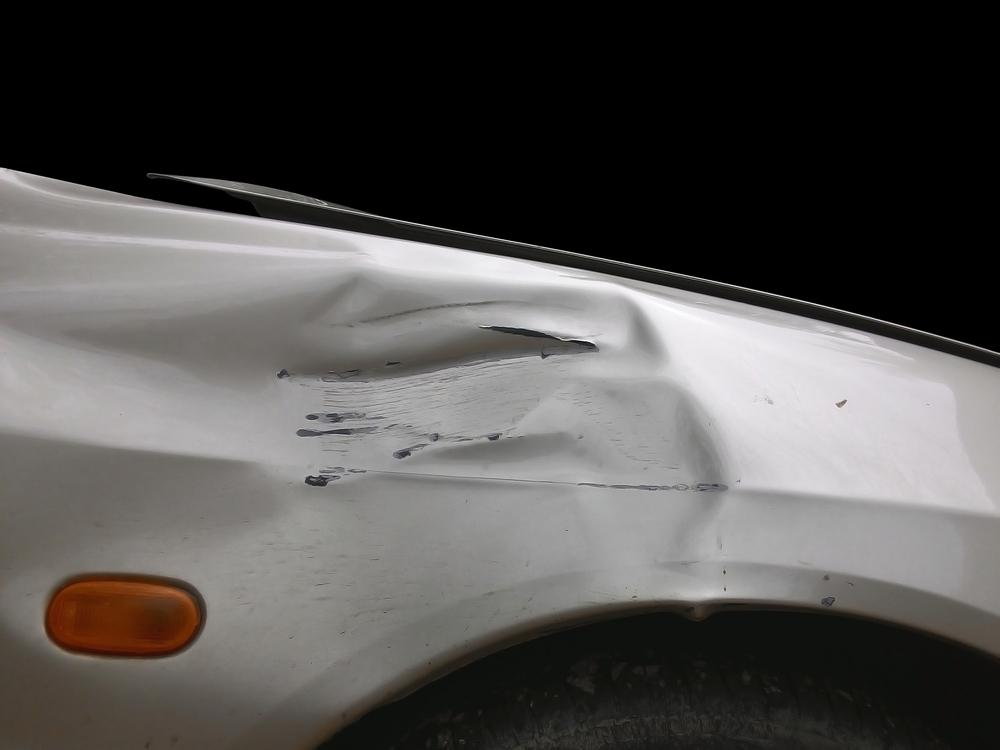dent: (0, 268, 727, 602)
